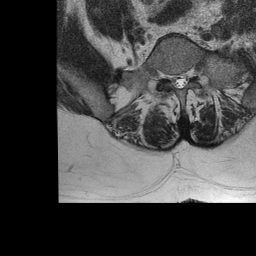CCS_stenosis: (176, 66, 183, 94)
LFS_normal: (189, 59, 196, 88)
LLS_normal: (183, 65, 190, 90)
RFS_stenosis: (162, 62, 169, 88)
RLS_normal: (169, 65, 176, 91)
